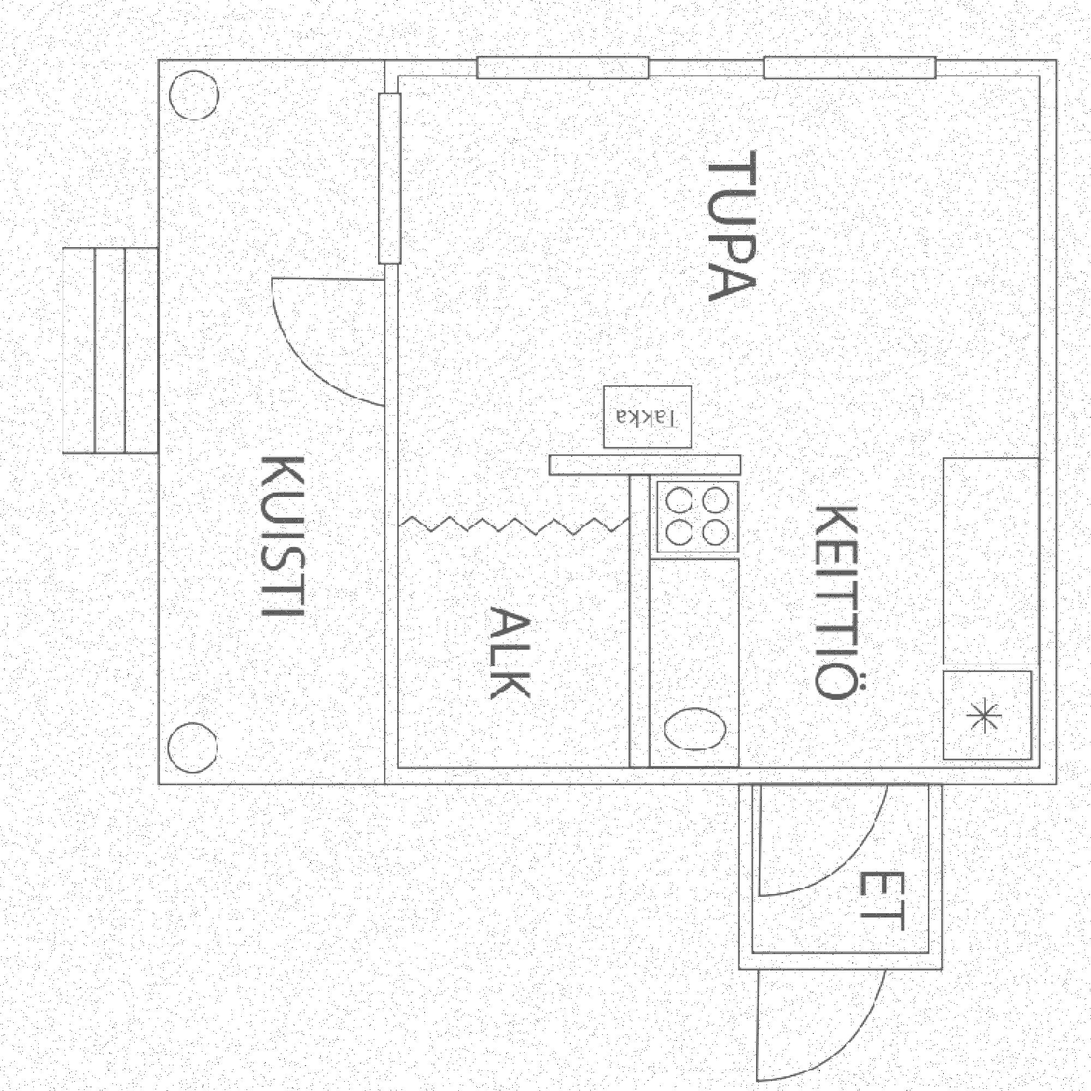wall: (1040, 59, 1058, 785), (384, 59, 1058, 77), (384, 59, 397, 784), (629, 454, 650, 784), (384, 768, 753, 784), (398, 517, 629, 534), (740, 954, 943, 970), (929, 768, 943, 970), (753, 768, 928, 784), (740, 768, 753, 970), (929, 767, 1058, 785), (628, 455, 740, 475), (551, 455, 629, 475)
